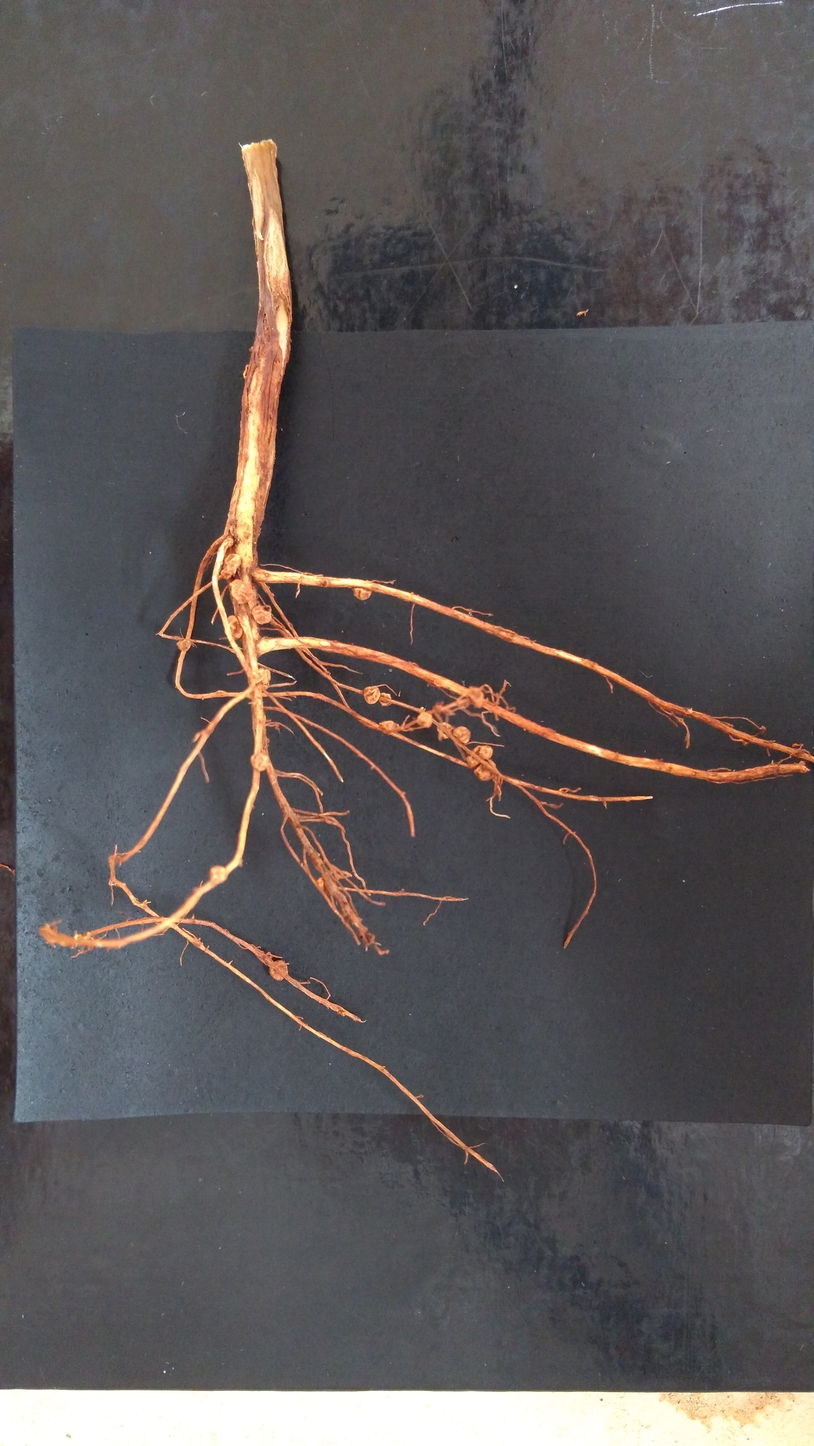nodule: (229, 579, 255, 604), (466, 745, 493, 767), (219, 553, 241, 579), (473, 759, 497, 781), (224, 615, 244, 640), (316, 876, 339, 896), (249, 752, 270, 772), (252, 605, 272, 625), (466, 687, 485, 708), (269, 960, 288, 981), (209, 864, 227, 884), (253, 668, 272, 686), (363, 686, 381, 705), (452, 726, 471, 744), (437, 722, 453, 740), (352, 587, 372, 601), (417, 711, 433, 728), (377, 721, 396, 735), (379, 692, 393, 707), (176, 639, 191, 651), (225, 535, 234, 548)
